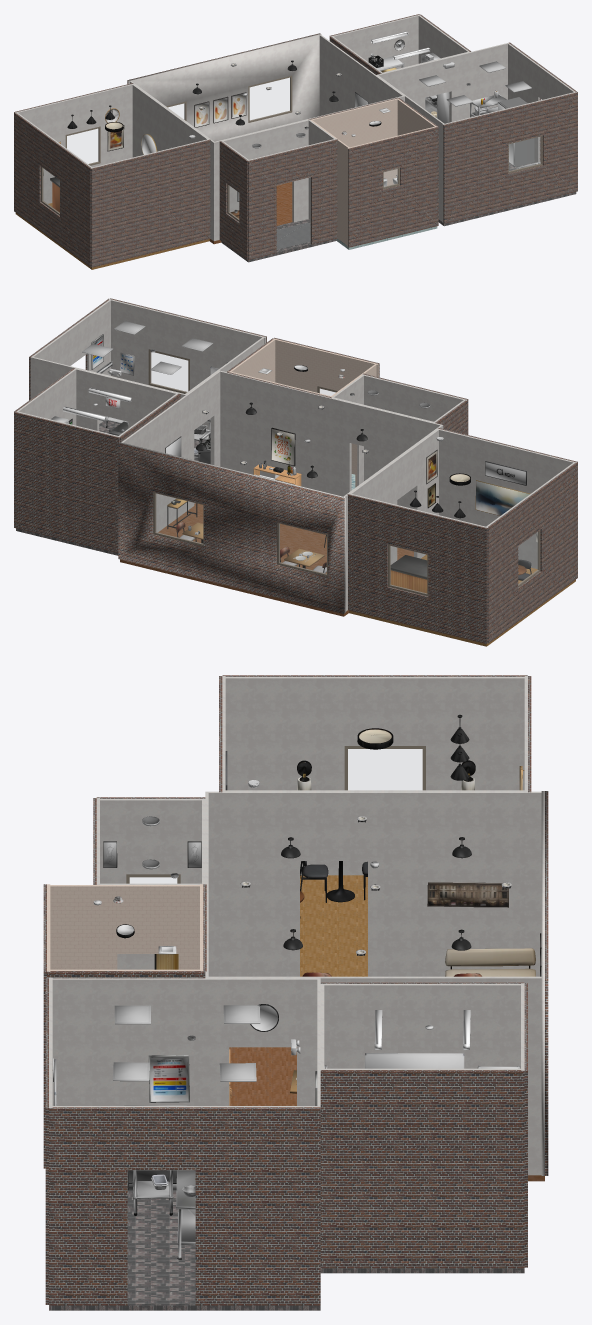
Rendered from scene_named.glb.
The picture shows the model from 3 angles, top to bottom: view 1: azimuth 30°, elevation 25°; view 2: azimuth 150°, elevation 25°; view 3: azimuth 270°, elevation 25°; orthographic projection. The views are drawn at different scales.
Visible parts, largest first — view 1: south_wall_exterior_kitchen/south_wall_exterior_kitchen/geom, south_wall_exterior_bar/south_wall_exterior_bar/geometry_0, north_wall_dining_room/north_wall_dining_room/geometry_0, south_wall_exterior_bathroom/south_wall_exterior_bathroom/ge, west_wall_exterior_bar/west_wall_exterior_bar/geometry_0, south_wall_exterior_hallway/south_wall_exterior_hallway/geom, north_wall_kitchen/north_wall_kitchen/geometry_0, north_wall_bar/north_wall_bar/geometry_0, east_wall_dining_room/east_wall_dining_room/geometry_0, north_wall_hallway/north_wall_hallway/geometry_0, east_wall_bar/east_wall_bar/geometry_0, north_wall_bathroom/north_wall_bathroom/geometry_0 (+27 smaller); view 2: north_wall_exterior_dining_room/north_wall_exterior_dining_r, north_wall_exterior_bar/north_wall_exterior_bar/geometry_0, south_wall_dining_room/south_wall_dining_room/geometry_0, north_wall_exterior_storage/north_wall_exterior_storage/geom, west_wall_exterior_bar/west_wall_exterior_bar/geometry_0, south_wall_kitchen/south_wall_kitchen/geometry_0, south_wall_bar/south_wall_bar/geometry_0, east_wall_dining_room/east_wall_dining_room/geometry_0, south_wall_bathroom/south_wall_bathroom/geometry_0, east_wall_bar/east_wall_bar/geometry_0, south_wall_storage/south_wall_storage/geometry_0, south_wall_hallway/south_wall_hallway/geometry_0 (+21 smaller); view 3: west_wall_dining_room/west_wall_dining_room/geometry_0, east_wall_exterior_kitchen/east_wall_exterior_kitchen/geomet, east_wall_exterior_storage/east_wall_exterior_storage/geomet, west_wall_bar/west_wall_bar/geometry_0, west_wall_kitchen/west_wall_kitchen/geometry_0, west_wall_storage/west_wall_storage/geometry_0, west_wall_bathroom/west_wall_bathroom/geometry_0, floor_kitchen, west_wall_hallway/west_wall_hallway/geometry_0, floor_bar, east_wall_dining_room/east_wall_dining_room/geometry_0, floor_dining_room (+14 smaller).
Boxes of the visible parts, box(x1,y1,x2,y2) form: south_wall_exterior_kitchen/south_wall_exterior_kitchen/geom: box(443, 92, 577, 223); south_wall_exterior_bar/south_wall_exterior_bar/geometry_0: box(91, 139, 210, 267); north_wall_dining_room/north_wall_dining_room/geometry_0: box(128, 34, 321, 141); south_wall_exterior_bathroom/south_wall_exterior_bathroom/ge: box(348, 127, 438, 247); west_wall_exterior_bar/west_wall_exterior_bar/geometry_0: box(14, 112, 91, 267); south_wall_exterior_hallway/south_wall_exterior_hallway/geom: box(247, 139, 337, 259); north_wall_kitchen/north_wall_kitchen/geometry_0: box(376, 43, 508, 121); north_wall_bar/north_wall_bar/geometry_0: box(15, 83, 134, 203); east_wall_dining_room/east_wall_dining_room/geometry_0: box(319, 34, 404, 115); north_wall_hallway/north_wall_hallway/geometry_0: box(222, 119, 309, 222); east_wall_bar/east_wall_bar/geometry_0: box(132, 84, 207, 157); north_wall_bathroom/north_wall_bathroom/geometry_0: box(310, 98, 397, 185); north_wall_exterior_dining_room/north_wall_exterior_dining_r: box(118, 443, 344, 613); north_wall_exterior_bar/north_wall_exterior_bar/geometry_0: box(347, 494, 487, 643); south_wall_dining_room/south_wall_dining_room/geometry_0: box(220, 371, 443, 508); north_wall_exterior_storage/north_wall_exterior_storage/geom: box(14, 412, 119, 552); west_wall_exterior_bar/west_wall_exterior_bar/geometry_0: box(487, 462, 577, 643); south_wall_kitchen/south_wall_kitchen/geometry_0: box(109, 299, 265, 429); south_wall_bar/south_wall_bar/geometry_0: box(437, 428, 576, 568); east_wall_dining_room/east_wall_dining_room/geometry_0: box(121, 370, 220, 532); south_wall_bathroom/south_wall_bathroom/geometry_0: box(273, 338, 378, 474); east_wall_bar/east_wall_bar/geometry_0: box(350, 429, 438, 564); south_wall_storage/south_wall_storage/geometry_0: box(75, 368, 176, 430); south_wall_hallway/south_wall_hallway/geometry_0: box(362, 374, 466, 480); west_wall_dining_room/west_wall_dining_room/geometry_0: box(205, 791, 541, 976); east_wall_exterior_kitchen/east_wall_exterior_kitchen/geomet: box(49, 1107, 320, 1305); east_wall_exterior_storage/east_wall_exterior_storage/geomet: box(320, 1070, 524, 1268); west_wall_bar/west_wall_bar/geometry_0: box(225, 677, 524, 875); west_wall_kitchen/west_wall_kitchen/geometry_0: box(52, 978, 317, 1105); west_wall_storage/west_wall_storage/geometry_0: box(324, 984, 524, 1068); west_wall_bathroom/west_wall_bathroom/geometry_0: box(47, 885, 199, 969); floor_kitchen: box(49, 1190, 320, 1310); west_wall_hallway/west_wall_hallway/geometry_0: box(97, 799, 202, 969); floor_bar: box(300, 875, 367, 976); east_wall_dining_room/east_wall_dining_room/geometry_0: box(205, 976, 541, 1175); floor_dining_room: box(229, 1047, 544, 1181).
Bounding box in the file's own units: 15.1 × 3.3 × 7.43.
186 materials, 171 textured.
